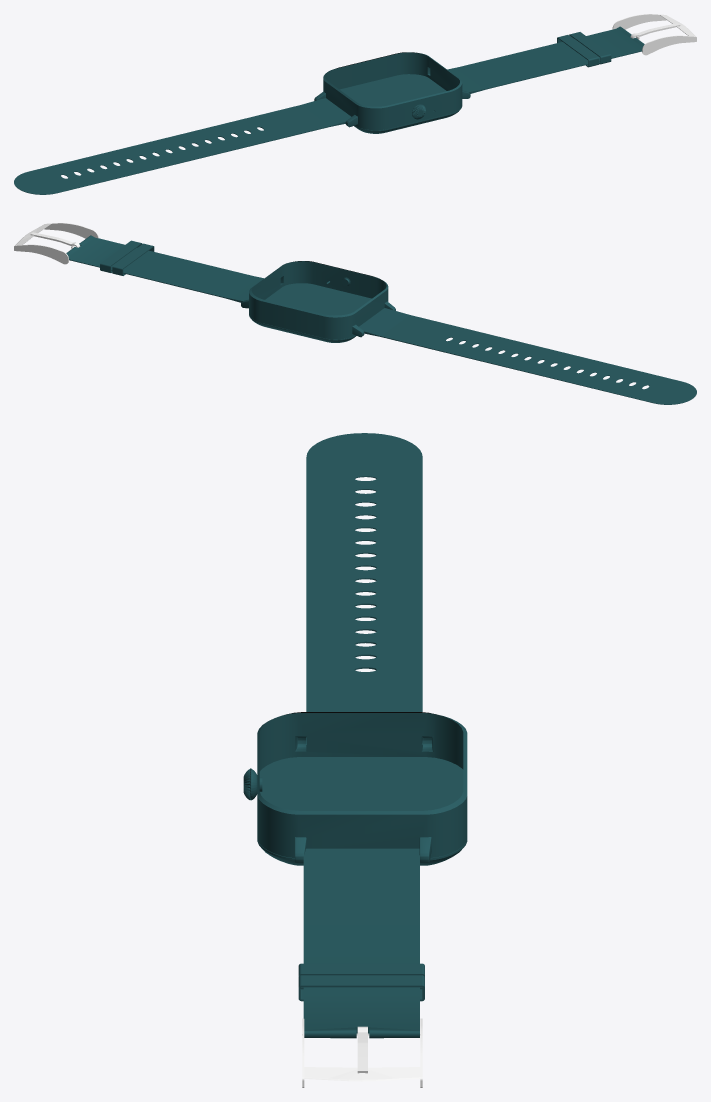
Rendered from smart_watch.glb.
3 views of the same model, one above another, from view 1: azimuth 30°, elevation 25°; view 2: azimuth 150°, elevation 25°; view 3: azimuth 270°, elevation 25° (orthographic). The views are drawn at different scales.
Visible parts, largest first — view 1: Object.003_Material.016_0, Object.002_Material.014_0, Object.004_Material.015_0, Plane, Cube, Object.001_Material.010_0; view 2: Object.003_Material.016_0, Object.002_Material.014_0, Object.004_Material.015_0, Plane, Cube, Object.001_Material.010_0; view 3: Object.003_Material.016_0, Object.002_Material.014_0, Object.004_Material.015_0, Cube, Plane.
Boxes of the visible parts, <box> form: Object.003_Material.016_0: <box>14,98,351,194</box>; Object.002_Material.014_0: <box>314,52,470,130</box>; Object.004_Material.015_0: <box>447,26,644,93</box>; Plane: <box>612,14,696,55</box>; Cube: <box>557,32,611,67</box>; Object.001_Material.010_0: <box>354,106,462,133</box>; Object.003_Material.016_0: <box>359,308,696,404</box>; Object.002_Material.014_0: <box>241,261,395,339</box>; Object.004_Material.015_0: <box>66,235,263,302</box>; Plane: <box>14,223,98,264</box>; Cube: <box>100,240,154,275</box>; Object.001_Material.010_0: <box>249,315,356,342</box>; Object.003_Material.016_0: <box>306,433,422,750</box>; Object.002_Material.014_0: <box>257,713,467,863</box>; Object.004_Material.015_0: <box>303,848,419,1038</box>; Cube: <box>298,963,424,1001</box>; Plane: <box>302,1018,422,1087</box>.
Size of the model in its own units: 0.5341 by 0.0289 by 0.0778.
